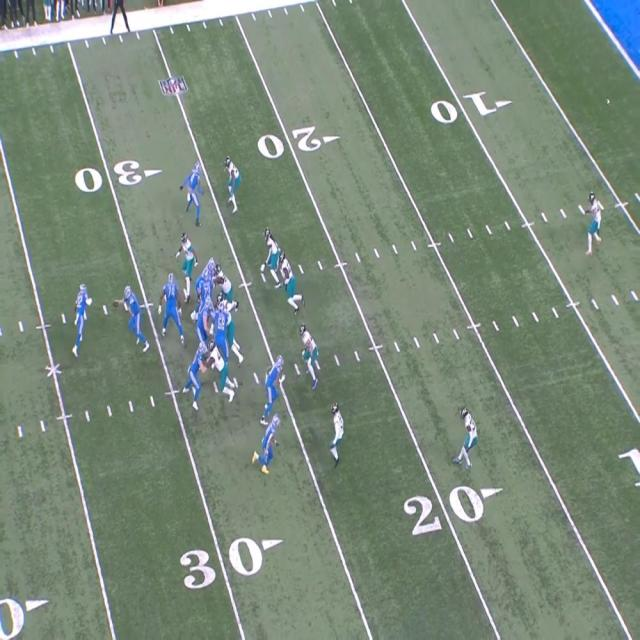db: (224, 155, 243, 207), (462, 406, 479, 463), (328, 406, 344, 461), (590, 192, 605, 244), (266, 230, 282, 276)
lb: (299, 323, 315, 378)
qb: (124, 287, 140, 342)
skill: (188, 342, 205, 408), (264, 412, 282, 469), (76, 284, 92, 346), (184, 165, 203, 213), (280, 260, 294, 299)
